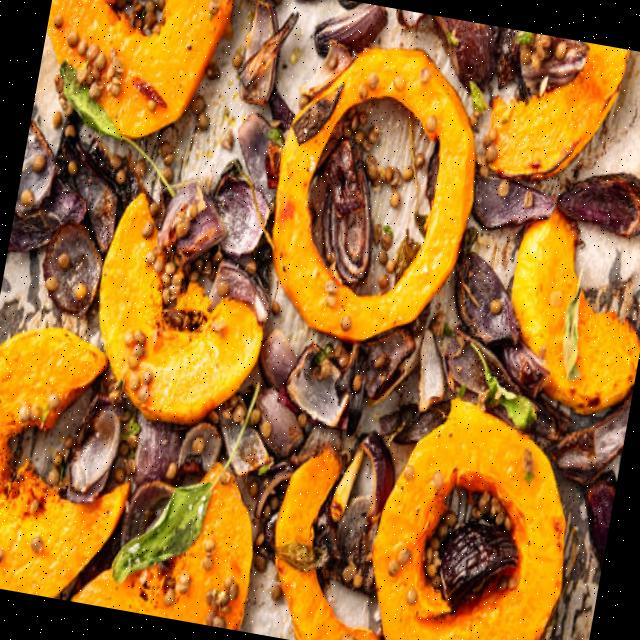pumpkin: (272, 50, 474, 341), (371, 399, 565, 640), (99, 194, 262, 424), (0, 329, 128, 596), (511, 210, 640, 414), (46, 0, 232, 139), (488, 43, 629, 178)
